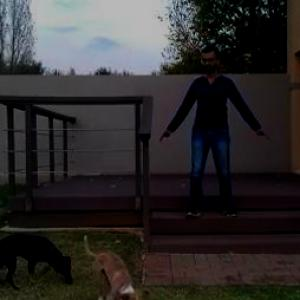land: (164, 50, 261, 230)
